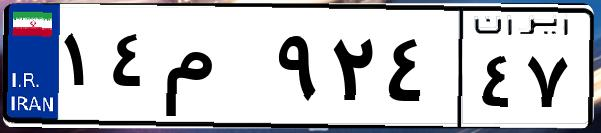1: (57, 26, 110, 100)
2: (330, 28, 385, 110)
4: (385, 28, 445, 110), (475, 38, 525, 113), (110, 28, 158, 98)
7: (525, 38, 570, 115)
9: (270, 28, 330, 110)
م: (158, 20, 270, 120)
